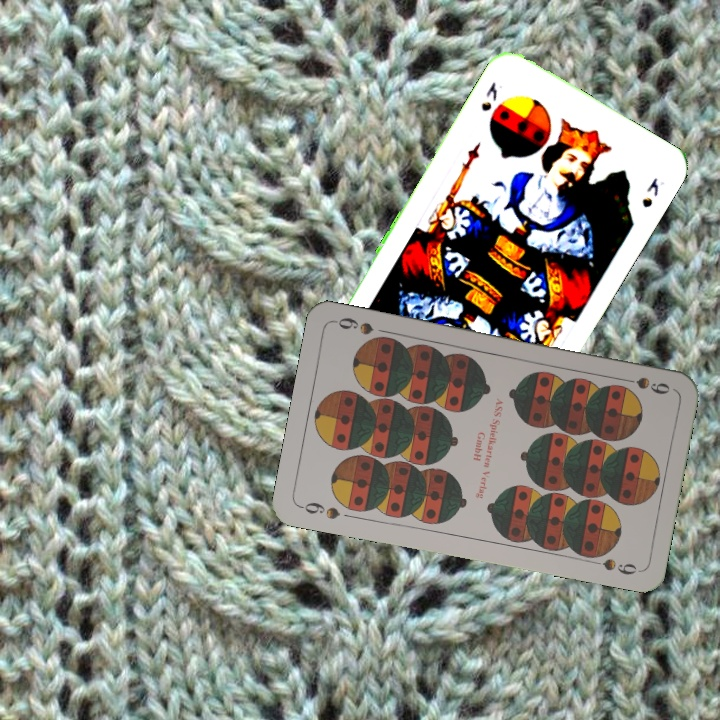S9: (615, 373, 673, 397), (296, 498, 343, 522)
SK: (477, 78, 500, 114)
